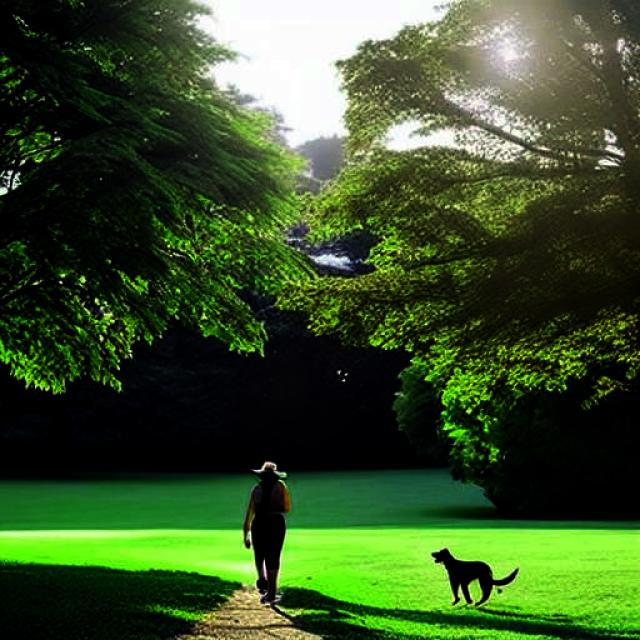Unleashed_Dog: (251, 530, 518, 607)
